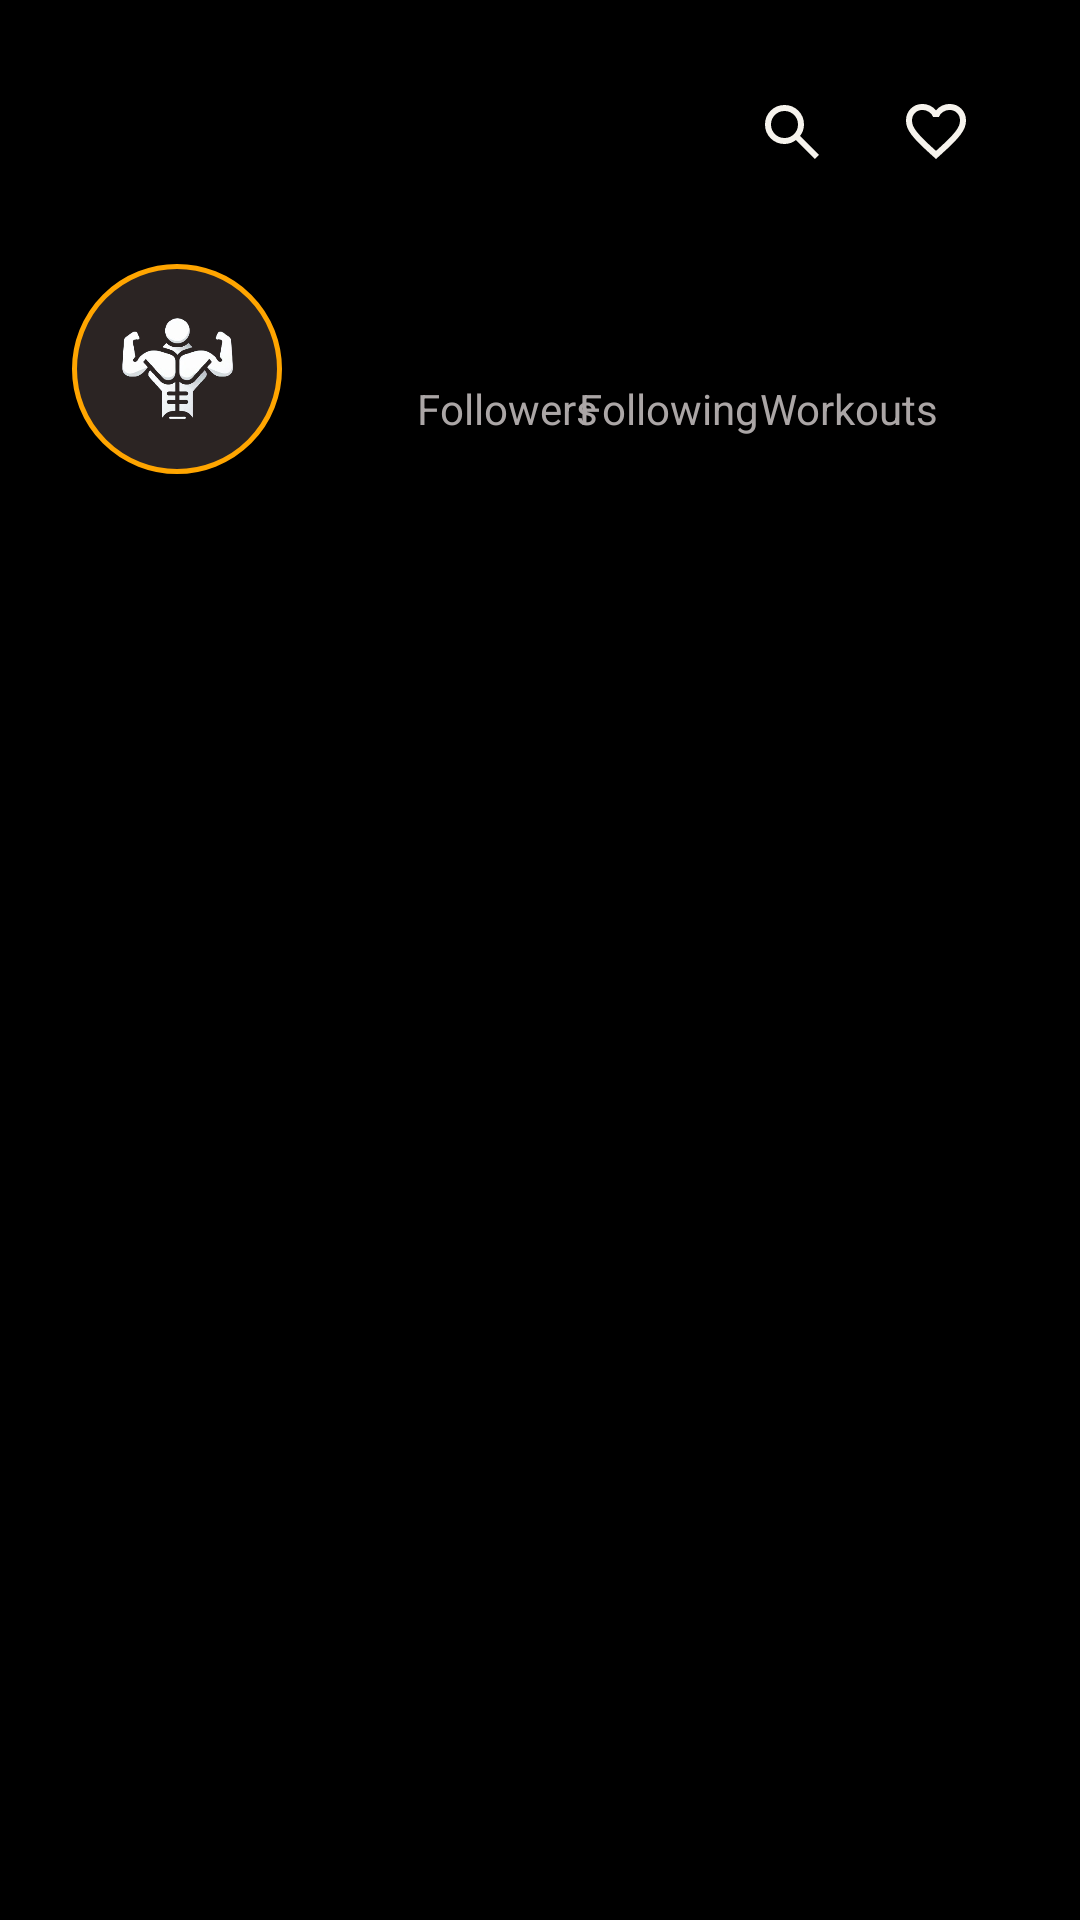

Icon click points for this 1080px x 1920px phone screenshot, format (x=x, y=y):
heart: (x=936, y=131)
search: (x=792, y=132)
